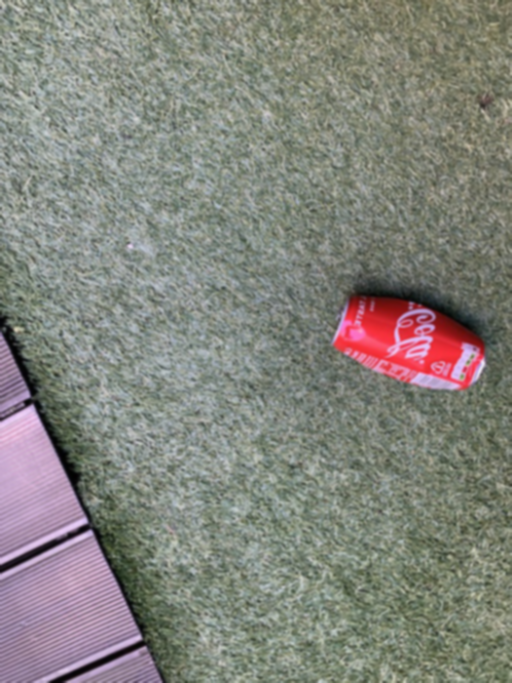can_s: (333, 287, 488, 397)
